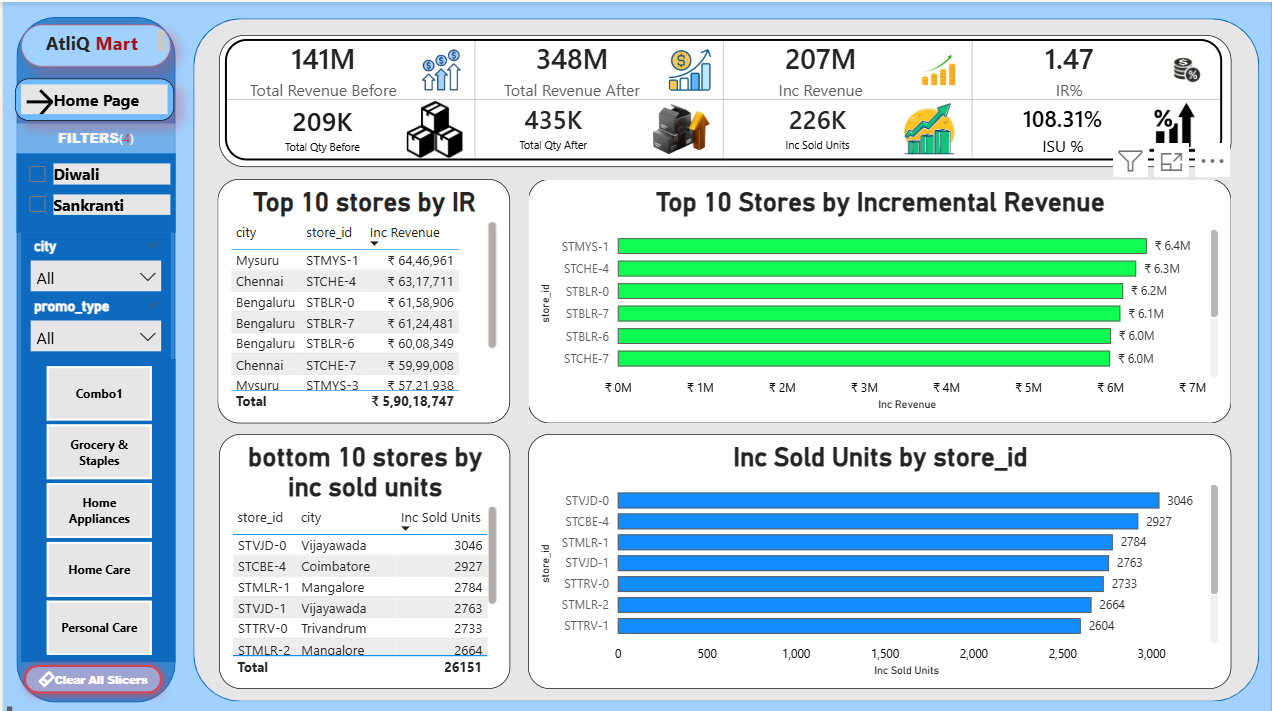

This screenshot's page, from the dashboard's own definition file:
{"tool":"powerbi","page":{"name":"Store Performance Analysis","canvas":[1280,720],"ordinal":1},"visuals":[{"type":"shape","box":[190.8,15.1,1078.1,692],"z":0},{"type":"shape","box":[13.6,15.1,160.5,692],"z":1000},{"type":"cardVisual","fields":{"Data":["retail_events_db fact_events.Total Revenue Before","retail_events_db fact_events.Total Revenue After","retail_events_db fact_events.Inc Revenue","retail_events_db fact_events.IR%","retail_events_db fact_events.Total Qty Before","retail_events_db fact_events.Total Qty After","retail_events_db fact_events.Incremental Sold Units","retail_events_db fact_events.ISU %"]},"box":[218,33.3,1022.1,133.3],"z":2000},{"type":"slicer","fields":{"Values":["retail_events_db dim_stores.city"]},"box":[18.2,233.2,151.4,60.6],"z":3000},{"type":"slicer","fields":{"Values":["retail_events_db dim_campaigns.campaign_name"]},"box":[13.6,152.9,160.5,80.3],"z":4000},{"type":"slicer","fields":{"Values":["retail_events_db dim_products.category"]},"box":[18.2,360.4,156,305.9],"z":5000},{"type":"slicer","fields":{"Values":["retail_events_db fact_events.promo_type"]},"box":[18.2,293.8,151.4,66.6],"z":6000},{"type":"tableEx","title":"Top 10 stores by IR","fields":{"Values":["retail_events_db dim_stores.city","retail_events_db dim_stores.store_id","retail_events_db fact_events.Inc Revenue"]},"box":[216.5,178.7,295.3,246.8],"z":7000},{"type":"actionButton","box":[0,707.3,99.4,13.2],"z":8000},{"type":"tableEx","title":"bottom 10 stores by inc sold units","fields":{"Values":["retail_events_db dim_stores.store_id","retail_events_db dim_stores.city","retail_events_db fact_events.Inc Sold Units"]},"box":[218,436.1,293.8,257.4],"z":9000},{"type":"clusteredBarChart","title":"Top 10 Stores by Incremental Revenue","fields":{"Category":["retail_events_db dim_stores.store_id"],"Y":["retail_events_db fact_events.Inc Revenue"]},"box":[530,178.7,710.2,246.8],"z":10000},{"type":"clusteredBarChart","fields":{"Category":["retail_events_db dim_stores.store_id"],"Y":["retail_events_db fact_events.Inc Sold Units"]},"box":[530,436.1,710.2,257.4],"z":11000},{"type":"textbox","box":[18.2,22.7,151.4,42.4],"z":12000},{"type":"textbox","box":[13.6,122.7,160.5,30.3],"z":13000},{"type":"actionButton","box":[12.1,660.2,157.5,46.9],"z":14000},{"type":"actionButton","box":[12.1,77,160.5,42.4],"z":15000}]}

Visuals, with their boxes on the page's 1280x720 design canvas (x1, y1, x2, y2). These are canvas units, not pixel positions in the 1272x711 screenshot, which may show the page scaled, cropped or inside an application window:
shape: (191, 15, 1269, 707)
shape: (14, 15, 174, 707)
cardVisual - retail_events_db fact_events.Total Revenue Before x retail_events_db fact_events.Total Revenue After: (218, 33, 1240, 167)
slicer - retail_events_db dim_stores.city: (18, 233, 170, 294)
slicer - retail_events_db dim_campaigns.campaign_name: (14, 153, 174, 233)
slicer - retail_events_db dim_products.category: (18, 360, 174, 666)
slicer - retail_events_db fact_events.promo_type: (18, 294, 170, 360)
"Top 10 stores by IR" tableEx: (216, 179, 512, 426)
actionButton: (0, 707, 99, 720)
"bottom 10 stores by inc sold units" tableEx: (218, 436, 512, 694)
"Top 10 Stores by Incremental Revenue" clusteredBarChart: (530, 179, 1240, 426)
clusteredBarChart - retail_events_db dim_stores.store_id x retail_events_db fact_events.Inc Sold Units: (530, 436, 1240, 694)
textbox: (18, 23, 170, 65)
textbox: (14, 123, 174, 153)
actionButton: (12, 660, 170, 707)
actionButton: (12, 77, 173, 119)
